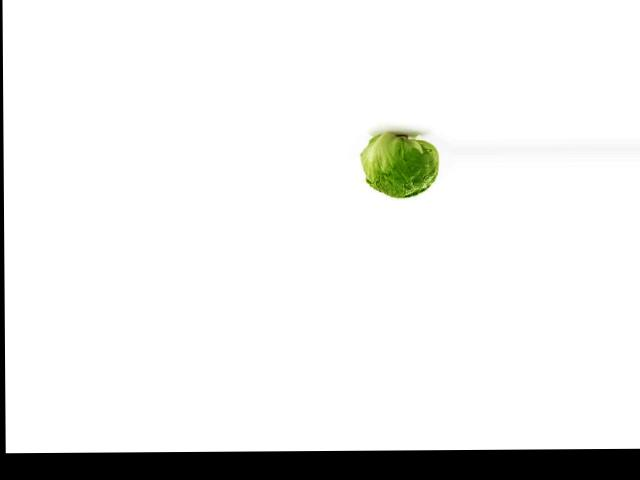lettuce: (360, 136, 448, 200)
